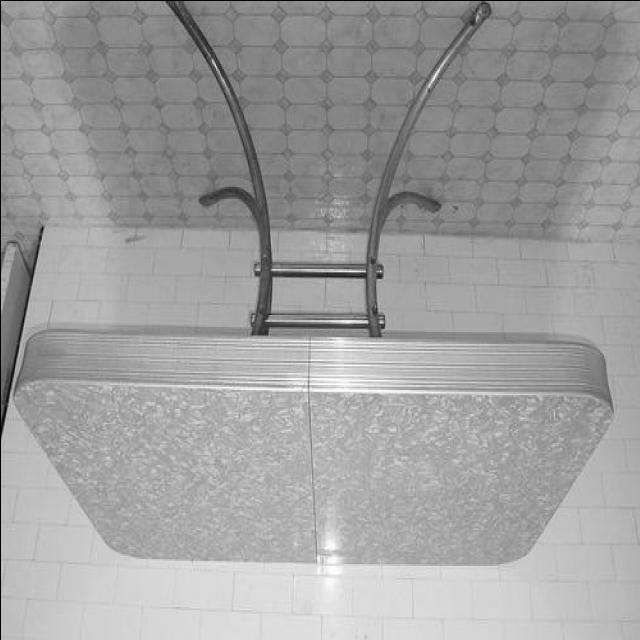table: (9, 2, 616, 580)
